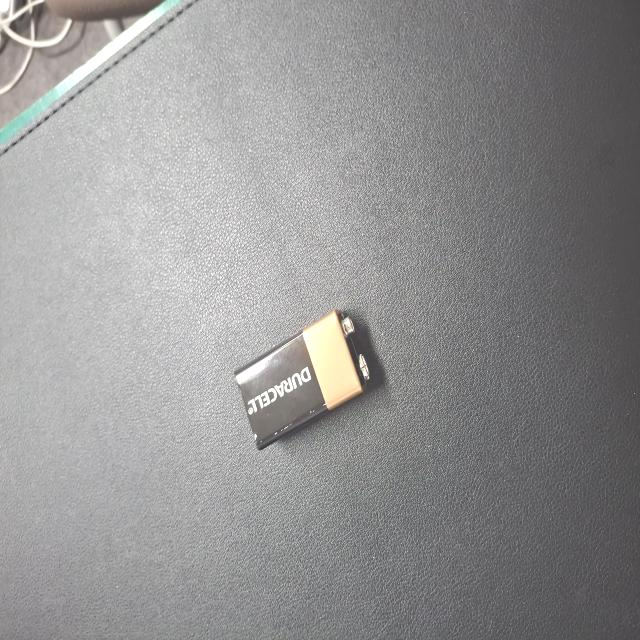9V: (143, 313, 247, 493)
